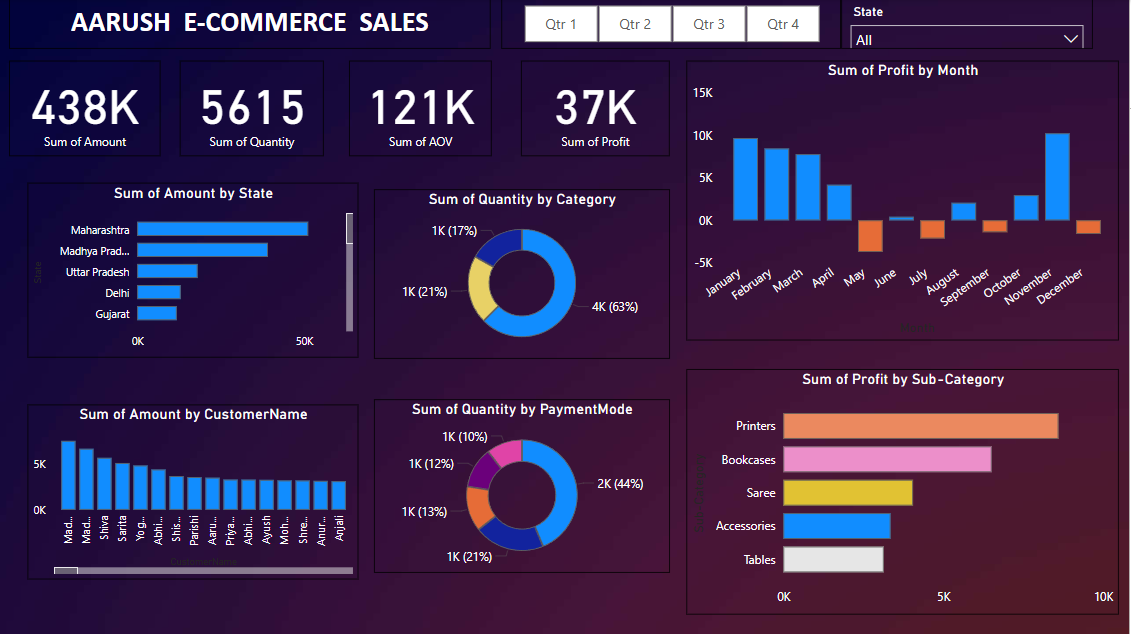

The dashboard page shown, as its layout file describes it:
{"tool":"powerbi","page":{"name":"Page 1","canvas":[1280,720],"ordinal":0},"visuals":[{"type":"textbox","box":[10.4,0,545.9,56.5],"z":0},{"type":"columnChart","fields":{"Category":["Orders.Order Date.Variation.Date Hierarchy.Month"],"Y":["Sum(Details.Profit)"]},"box":[778.3,70,490,316.7],"z":1000},{"type":"barChart","fields":{"Category":["Details.Sub-Category"],"Y":["Sum(Details.Profit)"]},"box":[778.3,420,490,278.3],"z":2000},{"type":"donutChart","fields":{"Category":["Details.Category"],"Y":["Sum(Details.Quantity)"]},"box":[423.3,215,335,191.7],"z":3000},{"type":"donutChart","fields":{"Category":["Details.PaymentMode"],"Y":["Sum(Details.Quantity)"]},"box":[423.3,453.3,335,196.7],"z":4000},{"type":"card","fields":{"Values":["Sum(Details.Amount)"]},"box":[10,70,171.7,108.3],"z":5000},{"type":"card","fields":{"Values":["Sum(Details.Quantity)"]},"box":[203.3,70,163.3,108.3],"z":6000},{"type":"card","fields":{"Values":["Sum(Details.Profit)"]},"box":[590,70,168.3,108.3],"z":7000},{"type":"card","fields":{"Values":["Sum(Details.AOV)"]},"box":[395,70,161.7,108.3],"z":8000},{"type":"barChart","fields":{"Category":["Orders.State"],"Y":["Sum(Details.Amount)"]},"box":[31.7,208.3,375,198.3],"z":9000},{"type":"slicer","fields":{"Values":["Orders.Order Date.Variation.Date Hierarchy.Quarter"]},"box":[568.3,0,385,56.7],"z":10000},{"type":"slicer","fields":{"Values":["Orders.State"]},"box":[953.3,0,285,56.7],"z":11000},{"type":"columnChart","fields":{"Category":["Orders.CustomerName"],"Y":["Sum(Details.Amount)"]},"box":[31.7,460,375,198.3],"z":12000}]}

Visuals, with their boxes in screenshot pixels (x1, y1, x2, y2), scaled from the page's 1280x720 canvas onto the 1131x634 screenshot:
textbox: {"left": 9, "top": 0, "right": 492, "bottom": 50}
columnChart - Orders.Order Date.Variation.Date Hierarchy.Month x Sum(Details.Profit): {"left": 688, "top": 62, "right": 1121, "bottom": 341}
barChart - Details.Sub-Category x Sum(Details.Profit): {"left": 688, "top": 370, "right": 1121, "bottom": 615}
donutChart - Details.Category x Sum(Details.Quantity): {"left": 374, "top": 189, "right": 670, "bottom": 358}
donutChart - Details.PaymentMode x Sum(Details.Quantity): {"left": 374, "top": 399, "right": 670, "bottom": 572}
card - Sum(Details.Amount): {"left": 9, "top": 62, "right": 161, "bottom": 157}
card - Sum(Details.Quantity): {"left": 180, "top": 62, "right": 324, "bottom": 157}
card - Sum(Details.Profit): {"left": 521, "top": 62, "right": 670, "bottom": 157}
card - Sum(Details.AOV): {"left": 349, "top": 62, "right": 492, "bottom": 157}
barChart - Orders.State x Sum(Details.Amount): {"left": 28, "top": 183, "right": 359, "bottom": 358}
slicer - Orders.Order Date.Variation.Date Hierarchy.Quarter: {"left": 502, "top": 0, "right": 842, "bottom": 50}
slicer - Orders.State: {"left": 842, "top": 0, "right": 1094, "bottom": 50}
columnChart - Orders.CustomerName x Sum(Details.Amount): {"left": 28, "top": 405, "right": 359, "bottom": 580}
